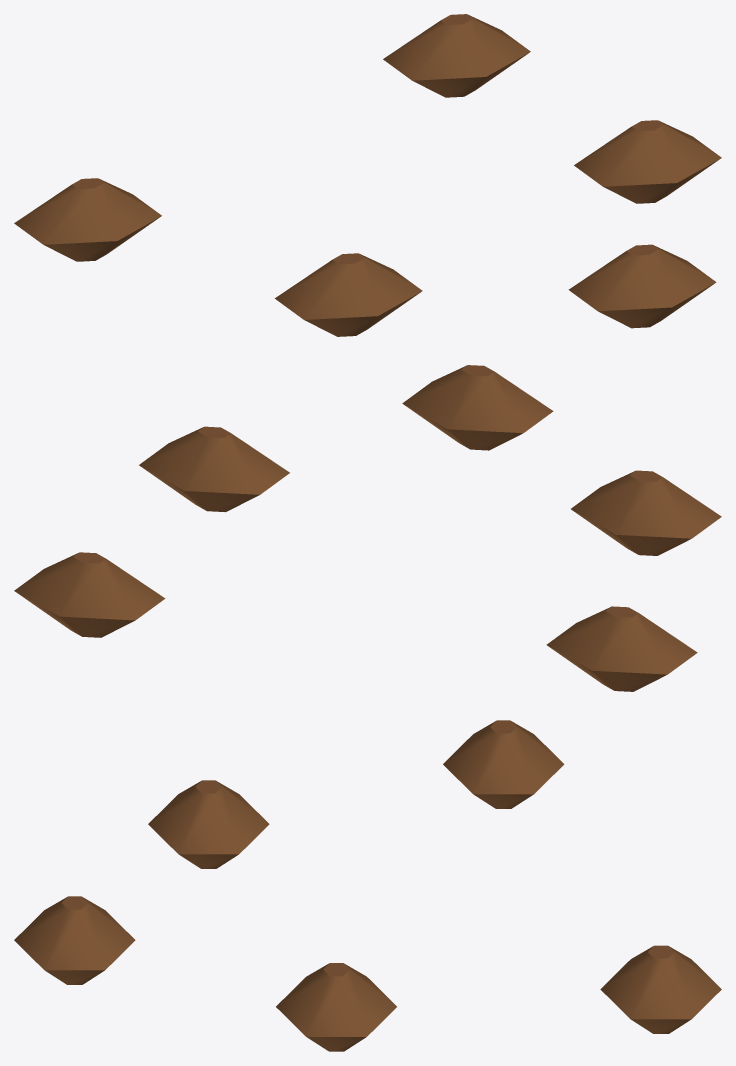
Rendered from crop_flax_seeded.glb.
3 views of the same model, one above another, from view 1: azimuth 30°, elevation 25°; view 2: azimuth 150°, elevation 25°; view 3: azimuth 270°, elevation 25° (orthographic). The views are drawn at different scales.
Parts seen in each view (by area): view 1: crop_flax_seeded_seed_0; view 2: crop_flax_seeded_seed_0; view 3: crop_flax_seeded_seed_0.
Boxes of the visible parts, left/top/right/bottom form: crop_flax_seeded_seed_0: left=14, top=14, right=721, bottom=336; crop_flax_seeded_seed_0: left=14, top=365, right=721, bottom=691; crop_flax_seeded_seed_0: left=14, top=720, right=721, bottom=1051.
Bounding box in the file's own units: 0.1917 × 0.022 × 0.1894.
